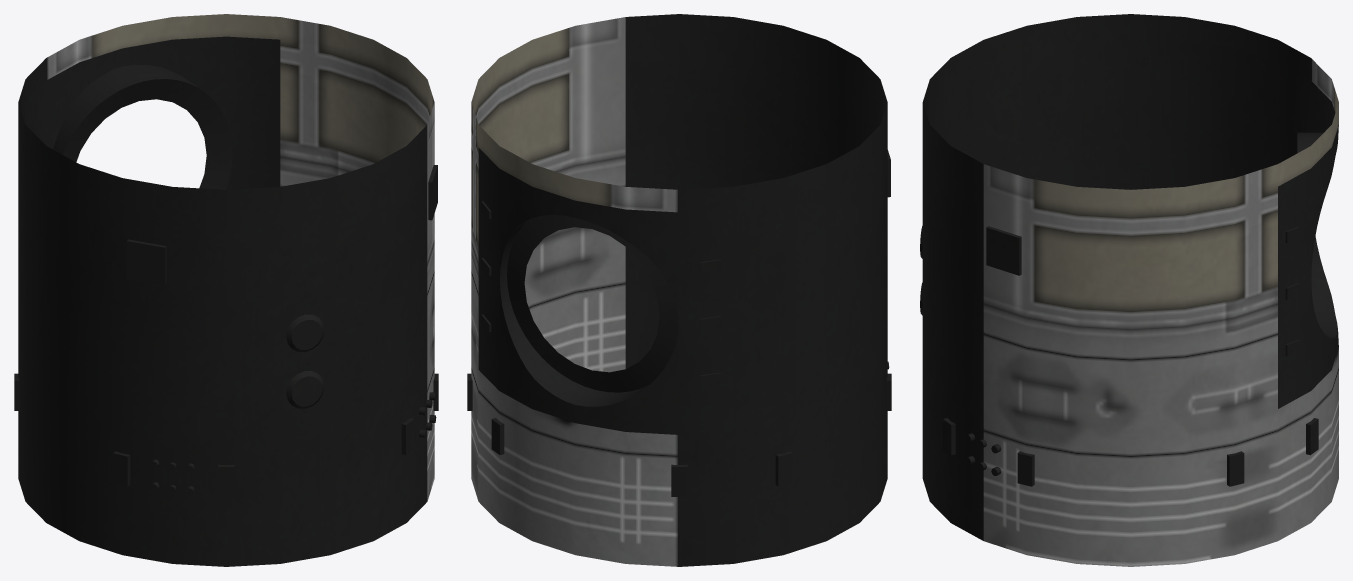
Rendered from vega_crew_s2_1_cutout.obj.
3 views of the same model, side by side, from view 1: azimuth 30°, elevation 25°; view 2: azimuth 150°, elevation 25°; view 3: azimuth 270°, elevation 25° (orthographic).
Parts seen in each view (by area): view 1: 1; view 2: 1; view 3: 1.
Part boxes in pixels (x1,y1,x2,y2): 1: (14, 14, 438, 566); 1: (467, 14, 891, 566); 1: (920, 14, 1338, 566).
Bounding box in the file's own units: 2.5 × 2.5 × 2.52.
